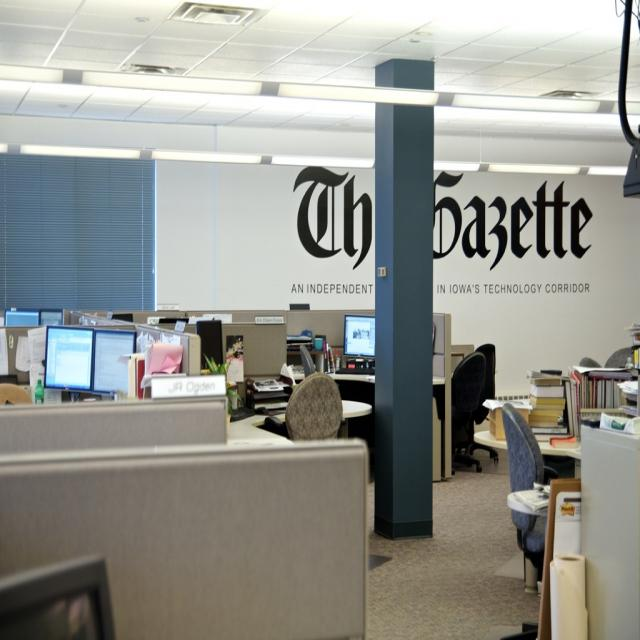chair: (502, 402, 557, 588), (450, 349, 499, 472), (284, 373, 344, 440), (0, 382, 33, 404)
desk: (473, 426, 579, 591)
tv: (44, 325, 94, 393), (344, 314, 376, 357)
